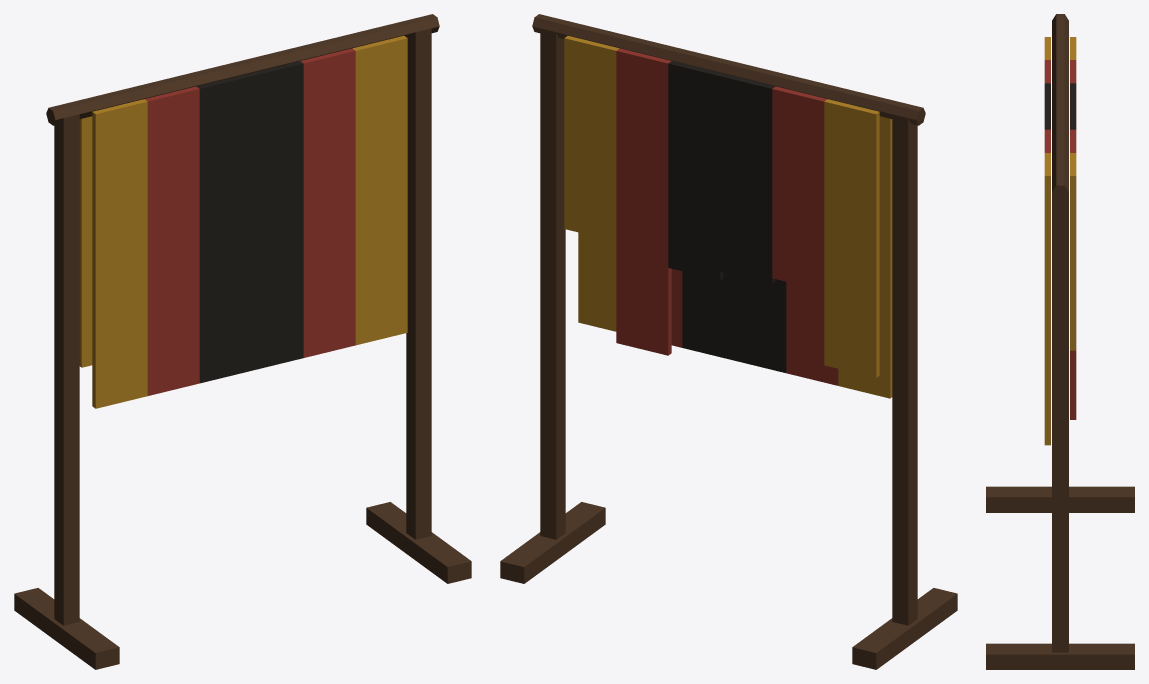
The model's file is kente-throw-roll-14.glb.
3 views of the same model, side by side, from view 1: azimuth 30°, elevation 25°; view 2: azimuth 150°, elevation 25°; view 3: azimuth 270°, elevation 25° (orthographic). The views are drawn at different scales.
Visible parts, largest first — view 1: kente_throw_roll_14; view 2: kente_throw_roll_14; view 3: kente_throw_roll_14.
Boxes of the visible parts, box(x1,y1,x2,y2) form: kente_throw_roll_14: box(14, 14, 471, 669); kente_throw_roll_14: box(500, 14, 957, 669); kente_throw_roll_14: box(986, 14, 1134, 669).
Size of the model in its own units: 0.9551 by 1.26 by 0.3501.
